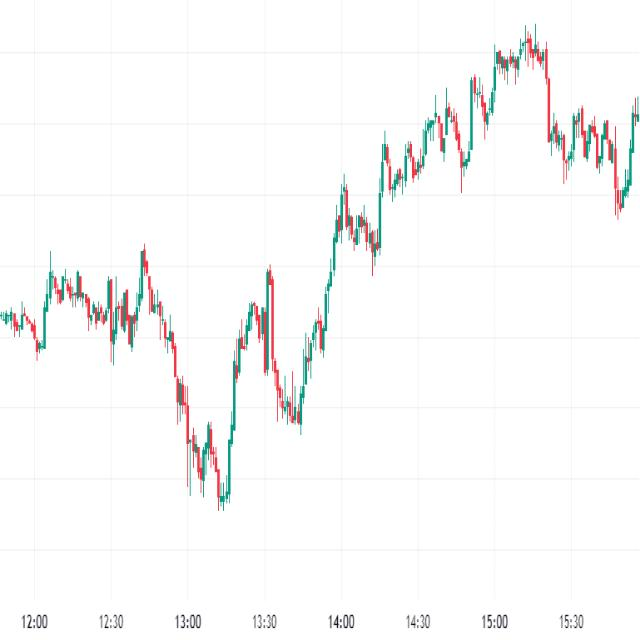Rising-Wedge: (92, 0, 584, 568)
